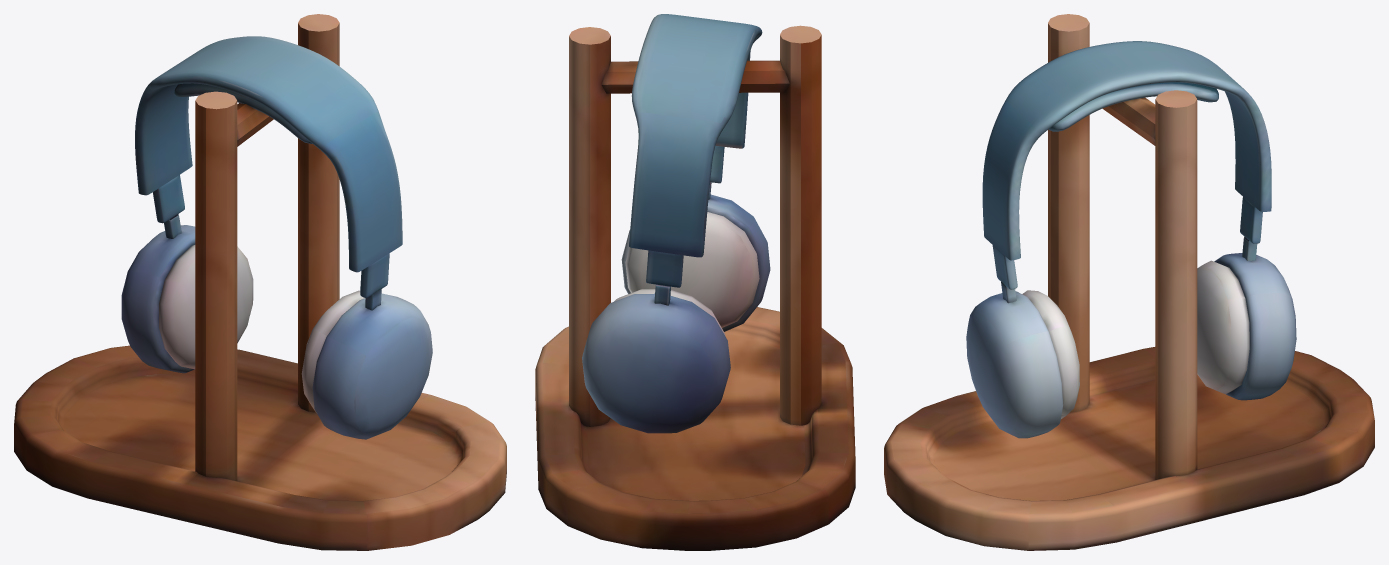
The model's file is headphones.glb.
3 renders of one model, left to right at view 1: azimuth 30°, elevation 25°; view 2: azimuth 150°, elevation 25°; view 3: azimuth 270°, elevation 25°, orthographic.
Visible parts, largest first — view 1: Headphones_Fourth_Raycaster_Hover; view 2: Headphones_Fourth_Raycaster_Hover; view 3: Headphones_Fourth_Raycaster_Hover.
Boxes of the visible parts, x1=… form: Headphones_Fourth_Raycaster_Hover: x1=14, y1=14, x2=506, y2=550; Headphones_Fourth_Raycaster_Hover: x1=535, y1=14, x2=855, y2=550; Headphones_Fourth_Raycaster_Hover: x1=884, y1=14, x2=1374, y2=550.
Size of the model in its own units: 0.8758 by 0.9257 by 1.02.
Materials: 1 (1 with a texture image).
